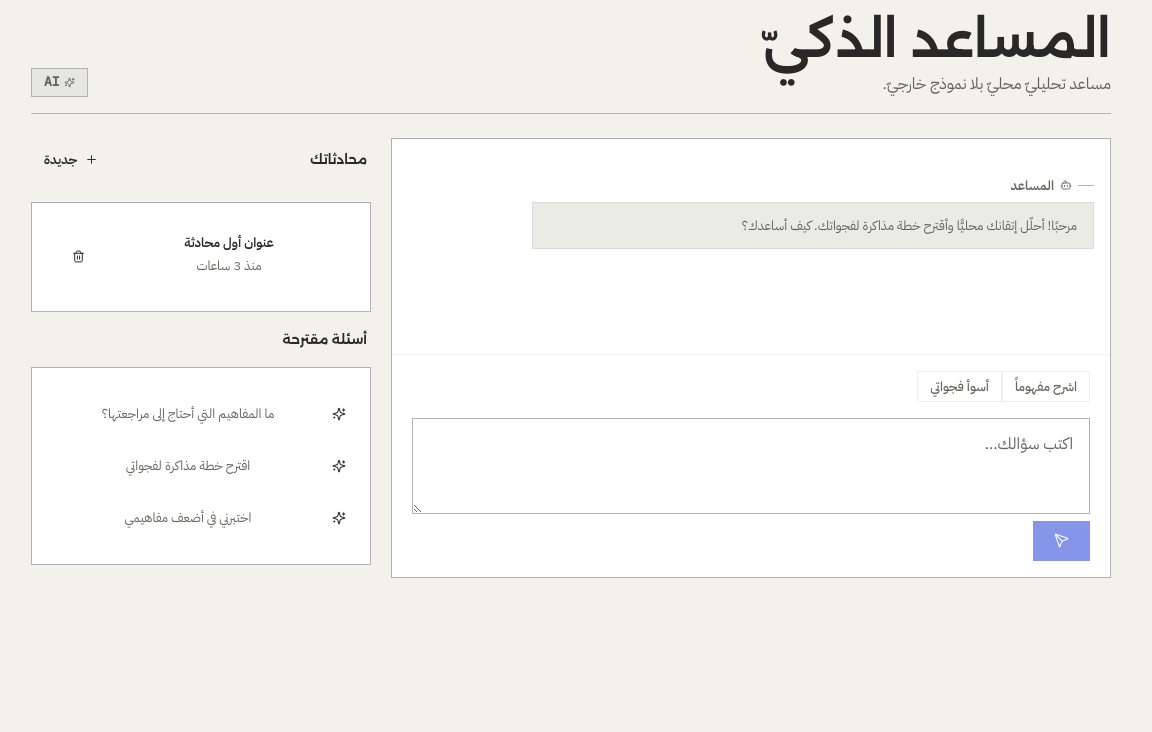
Test: AiAssistantPage — conversation management (r164g) › switching loads the stored transcript, marks the row current, and the next send targets it
Later steps or results of the test are not shown.
What coordinates should you click on to do the following:
click the button with aria-label "فتح محادثة: عنوان أول محادثة"
I would click on:
 (229, 256)
Its box is [112,234,346,278].
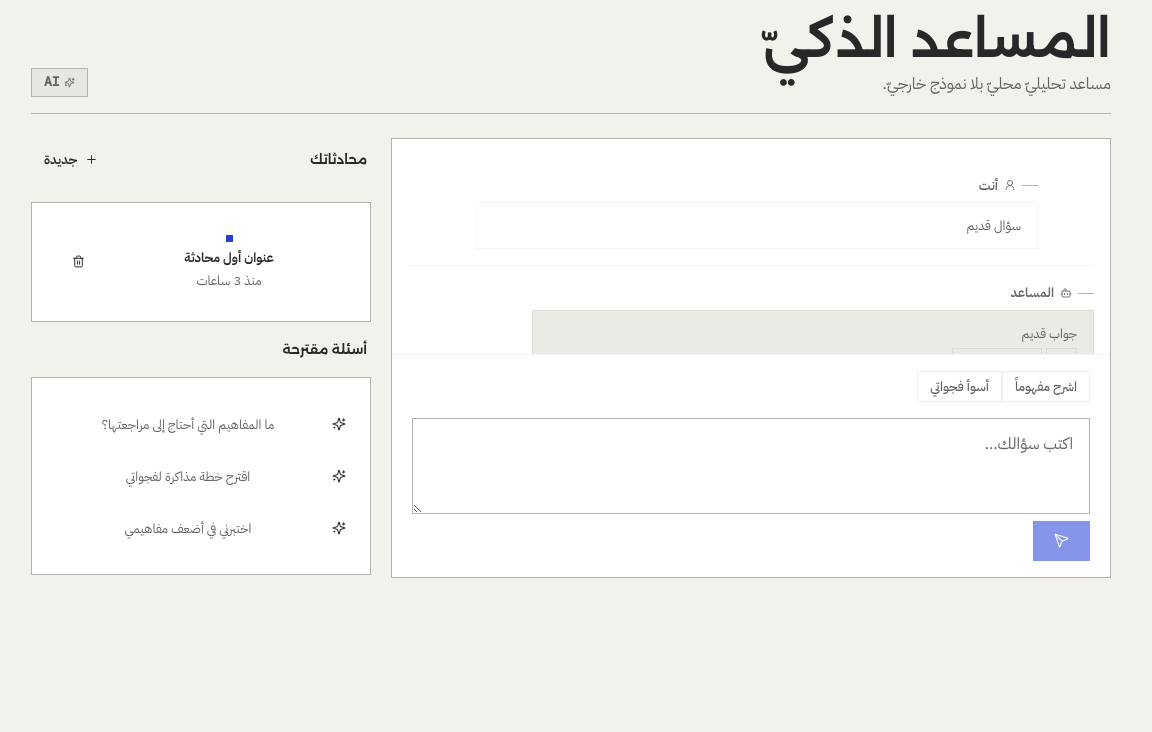
Now the text "أحلّل إتقانك محليًّا" is gone
Now the text "سؤال قديم" is shown, box [966,216,1021,235]
Now the text "جواب قديم" is shown, box [1022,324,1077,343]
